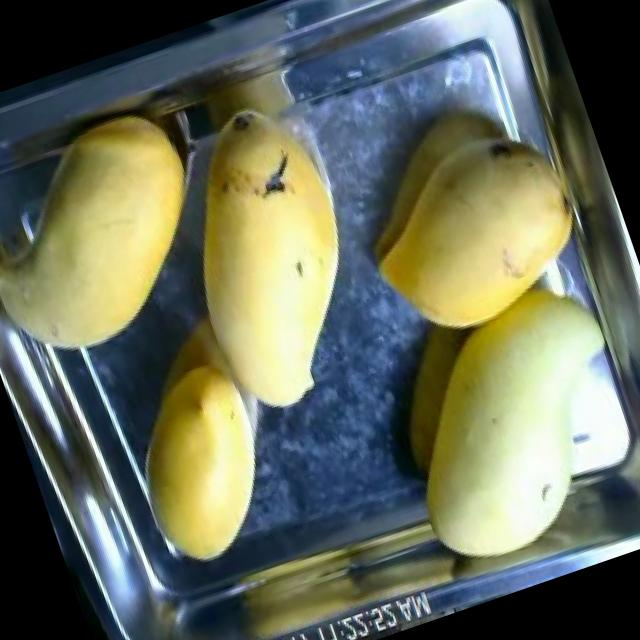fruit: (360, 274, 640, 589), (140, 110, 404, 434), (320, 76, 610, 370), (0, 86, 242, 380), (100, 336, 305, 586)
